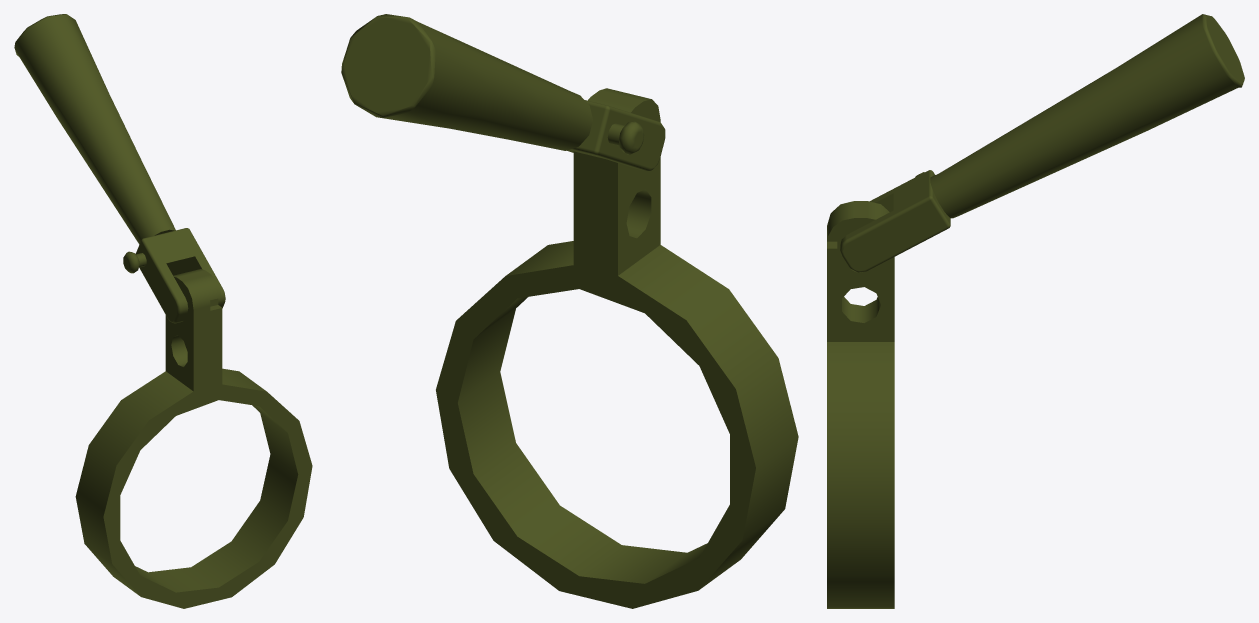
File: CumTayCam.glb
3 views of the same model, side by side, from view 1: azimuth 30°, elevation 25°; view 2: azimuth 150°, elevation 25°; view 3: azimuth 270°, elevation 25° (orthographic). The views are drawn at different scales.
Visible parts, largest first — view 1: Cum tay cam; view 2: Cum tay cam; view 3: Cum tay cam.
Part boxes in pixels (bbox=[...]): Cum tay cam: bbox=[14, 14, 312, 608]; Cum tay cam: bbox=[341, 14, 798, 608]; Cum tay cam: bbox=[827, 14, 1244, 608].
Bounding box in the file's own units: 86.91 × 188 × 124.
